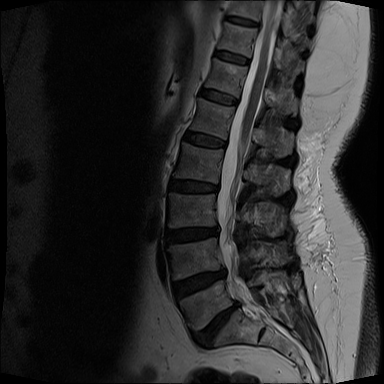Degenerative Disc Disease (DDD): (164, 221, 225, 248), (163, 174, 226, 199)
Lumbar Disc Bulge (LDB): (167, 260, 233, 306), (193, 300, 245, 355)
Normal IVD: (181, 130, 231, 150), (192, 89, 241, 109), (210, 48, 254, 68)
Spinal Stenosis (SS): (208, 218, 226, 241), (215, 263, 231, 284), (207, 179, 224, 197), (251, 17, 267, 35), (230, 296, 243, 314)
Thoracic Disc Bulge (TDB): (217, 10, 266, 32)
